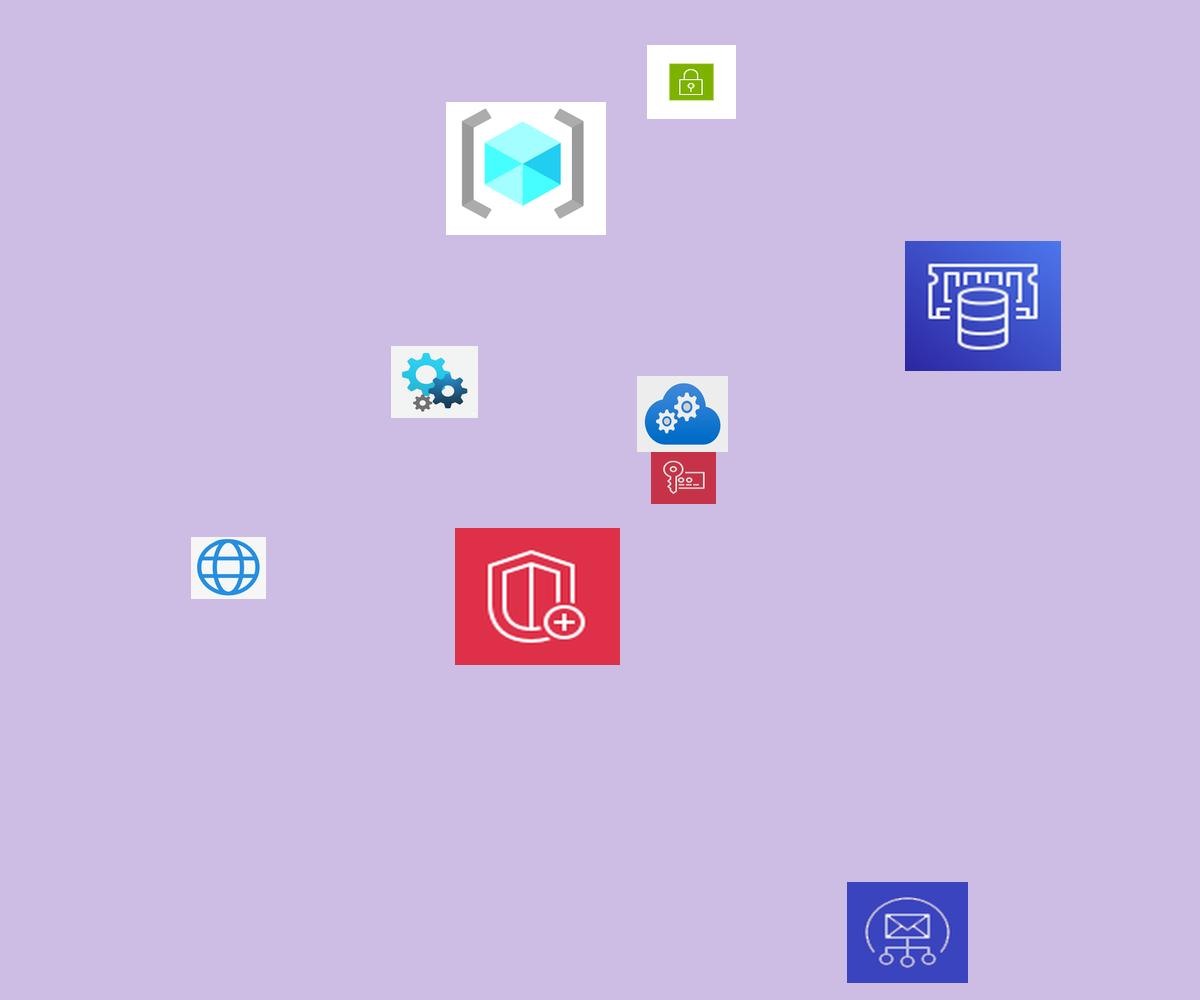AWS-ElastiCache: (905, 241, 1061, 371)
AWS-Key-Management-Service: (651, 450, 716, 504)
AWS-Public-subnet: (647, 45, 736, 119)
AWS-Shield: (455, 528, 620, 665)
AWS-Simple-Email-Service: (847, 882, 968, 983)
Azure_api: (391, 346, 478, 418)
Azure_cloud_services: (637, 376, 728, 452)
Azure_http: (191, 537, 266, 599)
Azure_resource_group: (446, 102, 606, 235)
